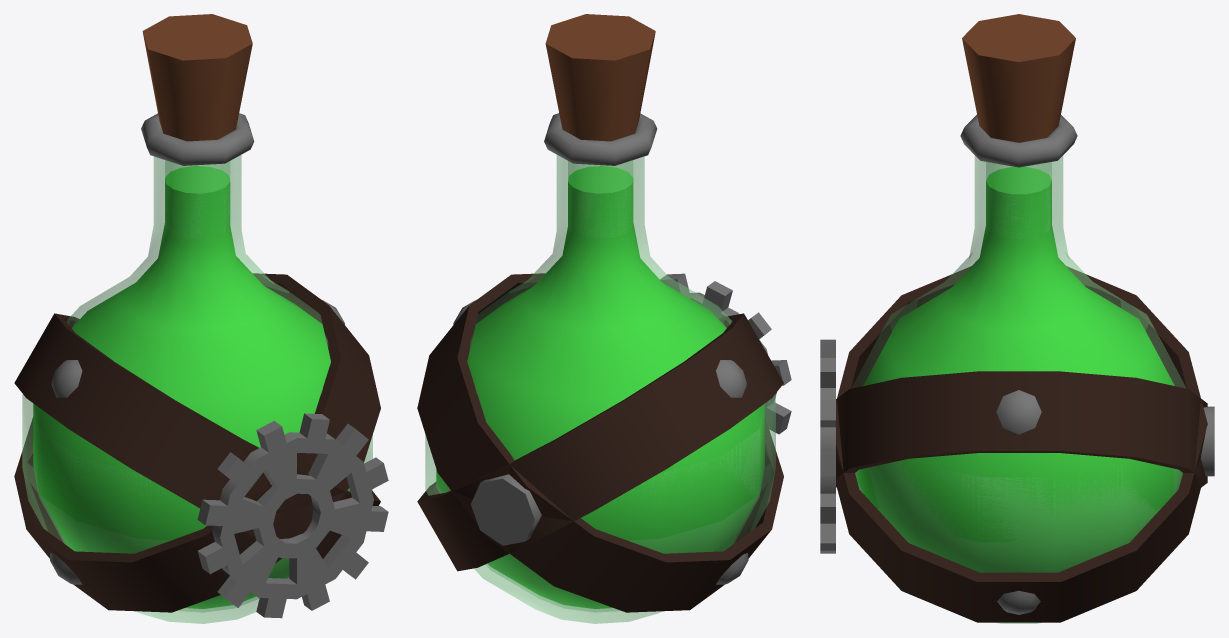
The model's file is Modé_Potions_3.FBX.
3 views of the same model, side by side, from view 1: azimuth 30°, elevation 25°; view 2: azimuth 150°, elevation 25°; view 3: azimuth 270°, elevation 25° (orthographic).
Visible parts, largest first — view 1: Potion3; view 2: Potion3; view 3: Potion3.
Boxes of the visible parts, left/top/right/bottom form: Potion3: left=14, top=14, right=388, bottom=623; Potion3: left=417, top=14, right=791, bottom=623; Potion3: left=820, top=14, right=1214, bottom=623.
Size of the model in its own units: 18.07 by 32.69 by 20.5.
